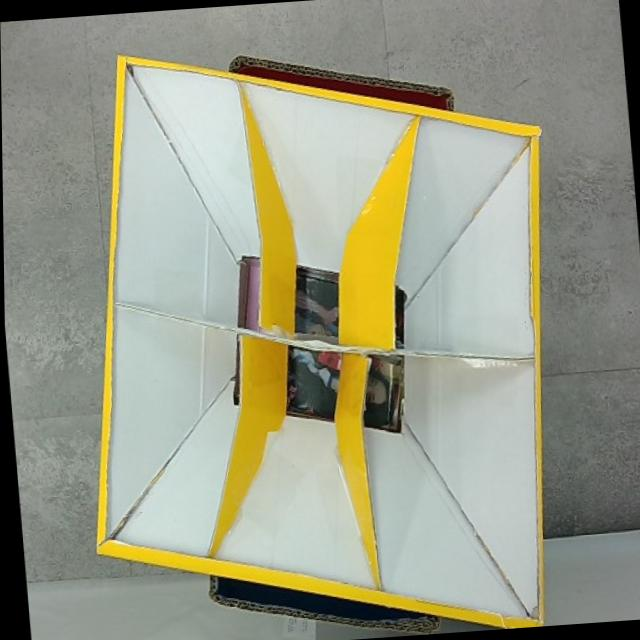box: (52, 23, 581, 640)
